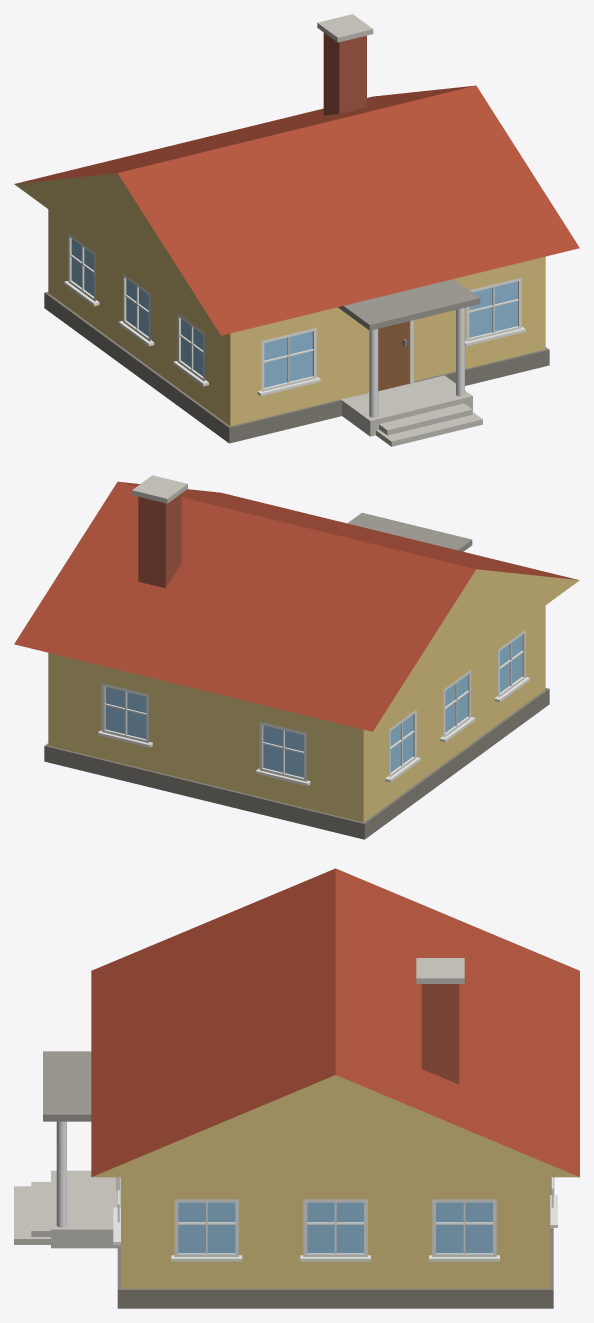
The model's file is casa-simples.glb.
3 views of the same model, one above another, from view 1: azimuth 30°, elevation 25°; view 2: azimuth 150°, elevation 25°; view 3: azimuth 270°, elevation 25° (orthographic). The views are drawn at different scales.
Parts seen in each view (by area): view 1: Telhado, Paredes, Detalhes, Vidro, Molduras, Portas, VidroLuz; view 2: Telhado, Paredes, Vidro, Molduras, Detalhes, VidroLuz; view 3: Telhado, Paredes, Detalhes, Vidro, Molduras.
Boxes of the visible parts, box(x1,y1,x2,y2) form: Telhado: box(14, 85, 579, 335); Paredes: box(44, 14, 549, 443); Detalhes: box(338, 279, 482, 446); Vidro: box(71, 239, 517, 387); Molduras: box(64, 233, 525, 396); Portas: box(378, 321, 408, 390); VidroLuz: box(126, 279, 150, 337); Telhado: box(14, 481, 579, 731); Paredes: box(44, 475, 549, 839); Vidro: box(105, 635, 522, 777); Molduras: box(98, 629, 529, 786); Detalhes: box(347, 512, 472, 551); VidroLuz: box(443, 675, 467, 733); Telhado: box(91, 868, 579, 1177); Paredes: box(117, 958, 553, 1308); Detalhes: box(14, 1051, 120, 1248); Vidro: box(178, 1202, 492, 1253); Molduras: box(113, 1177, 557, 1261).
Size of the model in its own units: 9.1 by 6.2 by 10.54.
